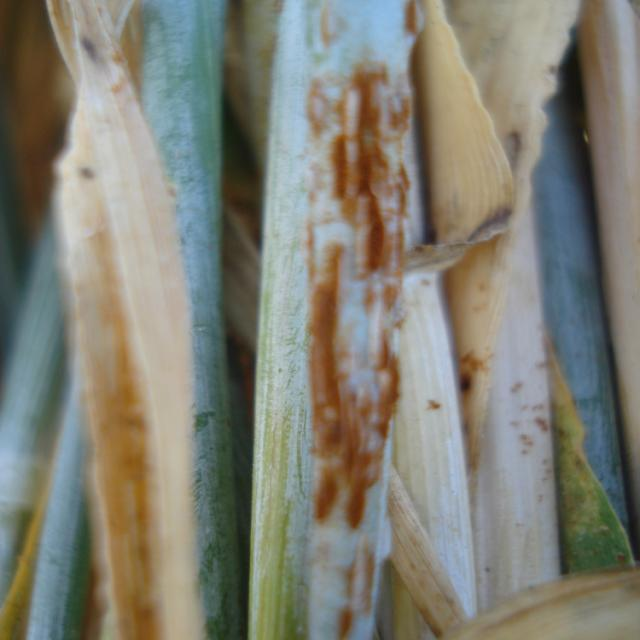wheat-yellowrust: (247, 0, 410, 640)
